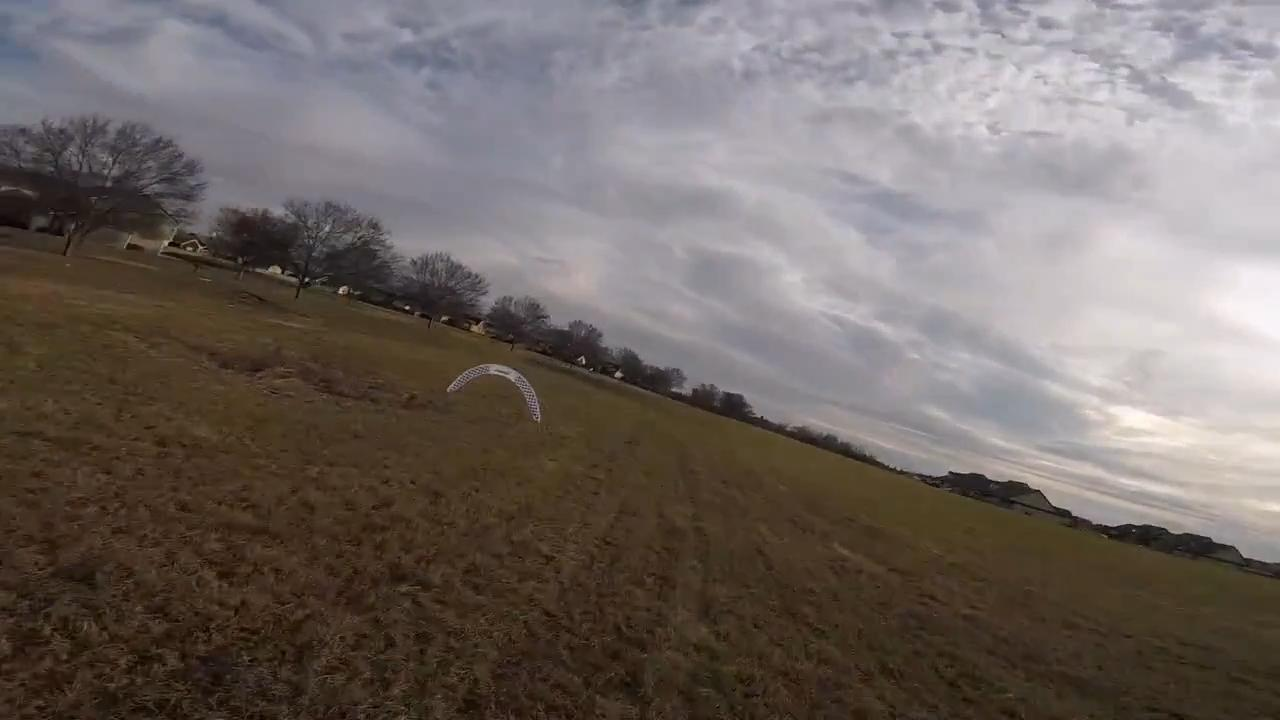gate: (442, 360, 544, 428)
